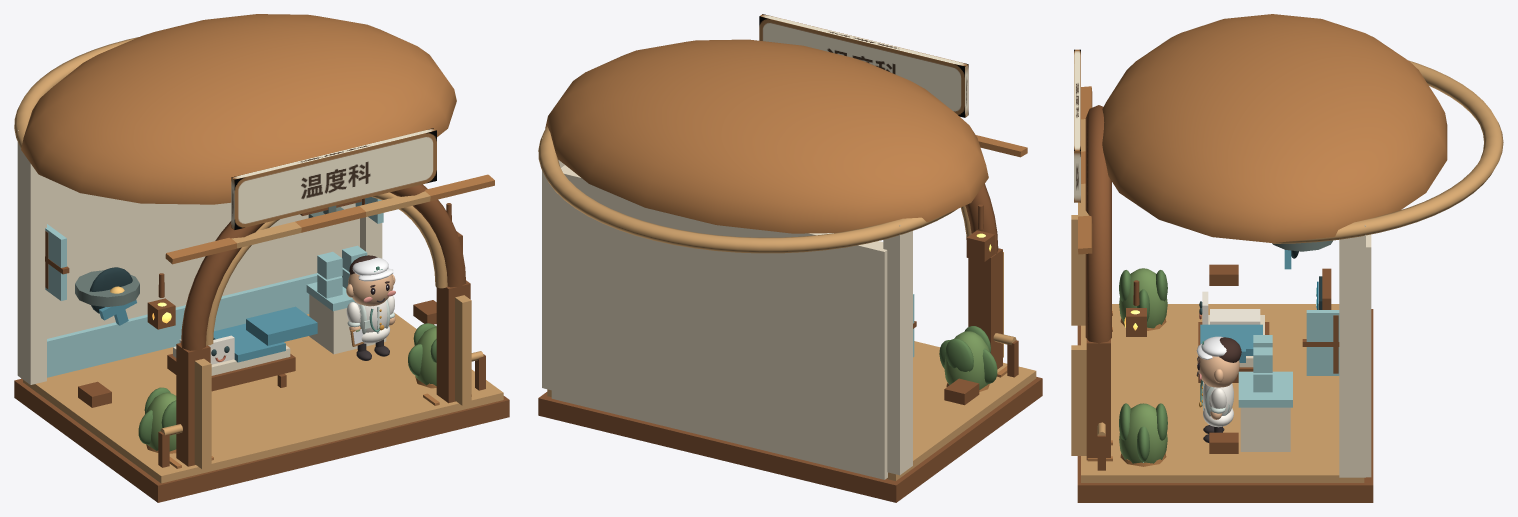
Rendered from temperature.glb.
3 views of the same model, side by side, from view 1: azimuth 30°, elevation 25°; view 2: azimuth 150°, elevation 25°; view 3: azimuth 270°, elevation 25° (orthographic). The views are drawn at different scales.
Visible parts, largest first — view 1: static batch geometry (×10), static batch platform, sign-温度科, large-head, animated-fan-rotor; view 2: static batch geometry (×5), static batch platform, sign-温度科; view 3: static batch geometry (×8), static batch platform, sign-温度科, large-head.
Boxes of the visible parts, box(x1,y1,x2,y2) form: static batch geometry (×10): box(14, 14, 503, 483); static batch platform: box(14, 184, 509, 502); sign-温度科: box(231, 128, 436, 229); large-head: box(348, 273, 393, 306); animated-fan-rotor: box(99, 286, 136, 325); static batch geometry (×5): box(538, 39, 1036, 480); static batch platform: box(538, 184, 1042, 502); sign-温度科: box(759, 14, 968, 117); static batch geometry (×8): box(1071, 14, 1503, 482); static batch platform: box(1077, 105, 1373, 502); sign-温度科: box(1074, 49, 1080, 202); large-head: box(1197, 356, 1239, 387).
Bounding box in the file's own units: 6.84 × 5.62 × 6.21.
31 materials, 1 textured.
